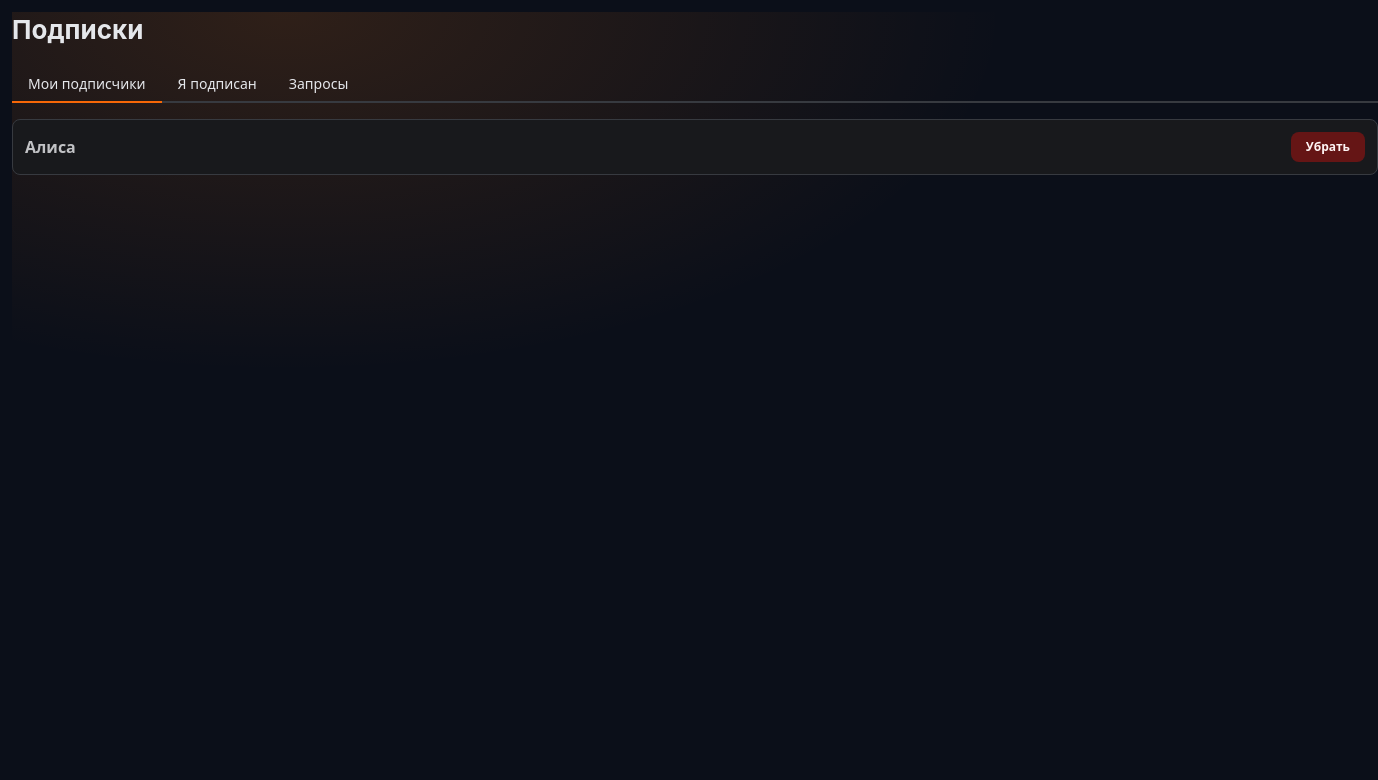
FollowsPage › removes a follower and refetches the list
Expected: the link "Алиса" is shown, x1=25 y1=136 x2=76 y2=158
Click the button "Убрать" at (1328,147), box x1=1291 y1=132 x2=1365 y2=162
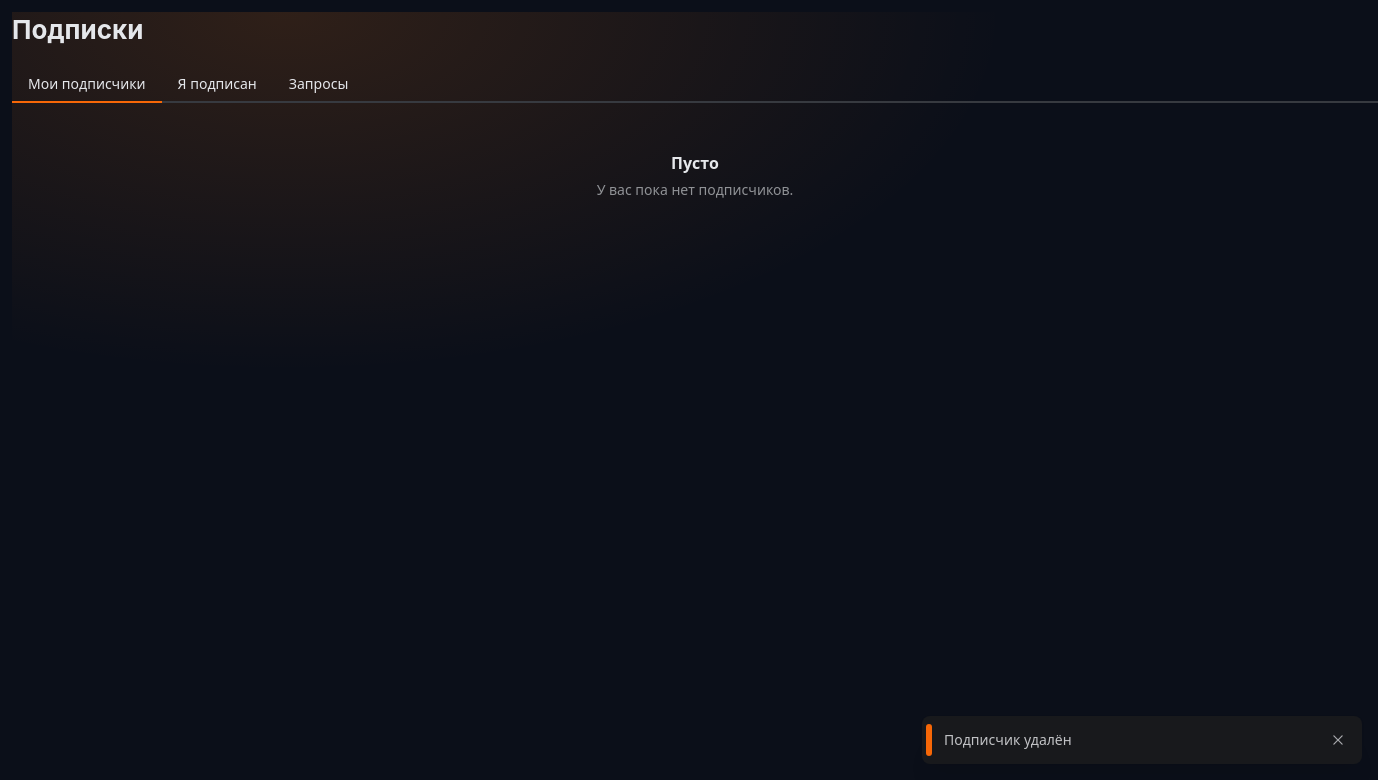
Now the link "Алиса" is gone
